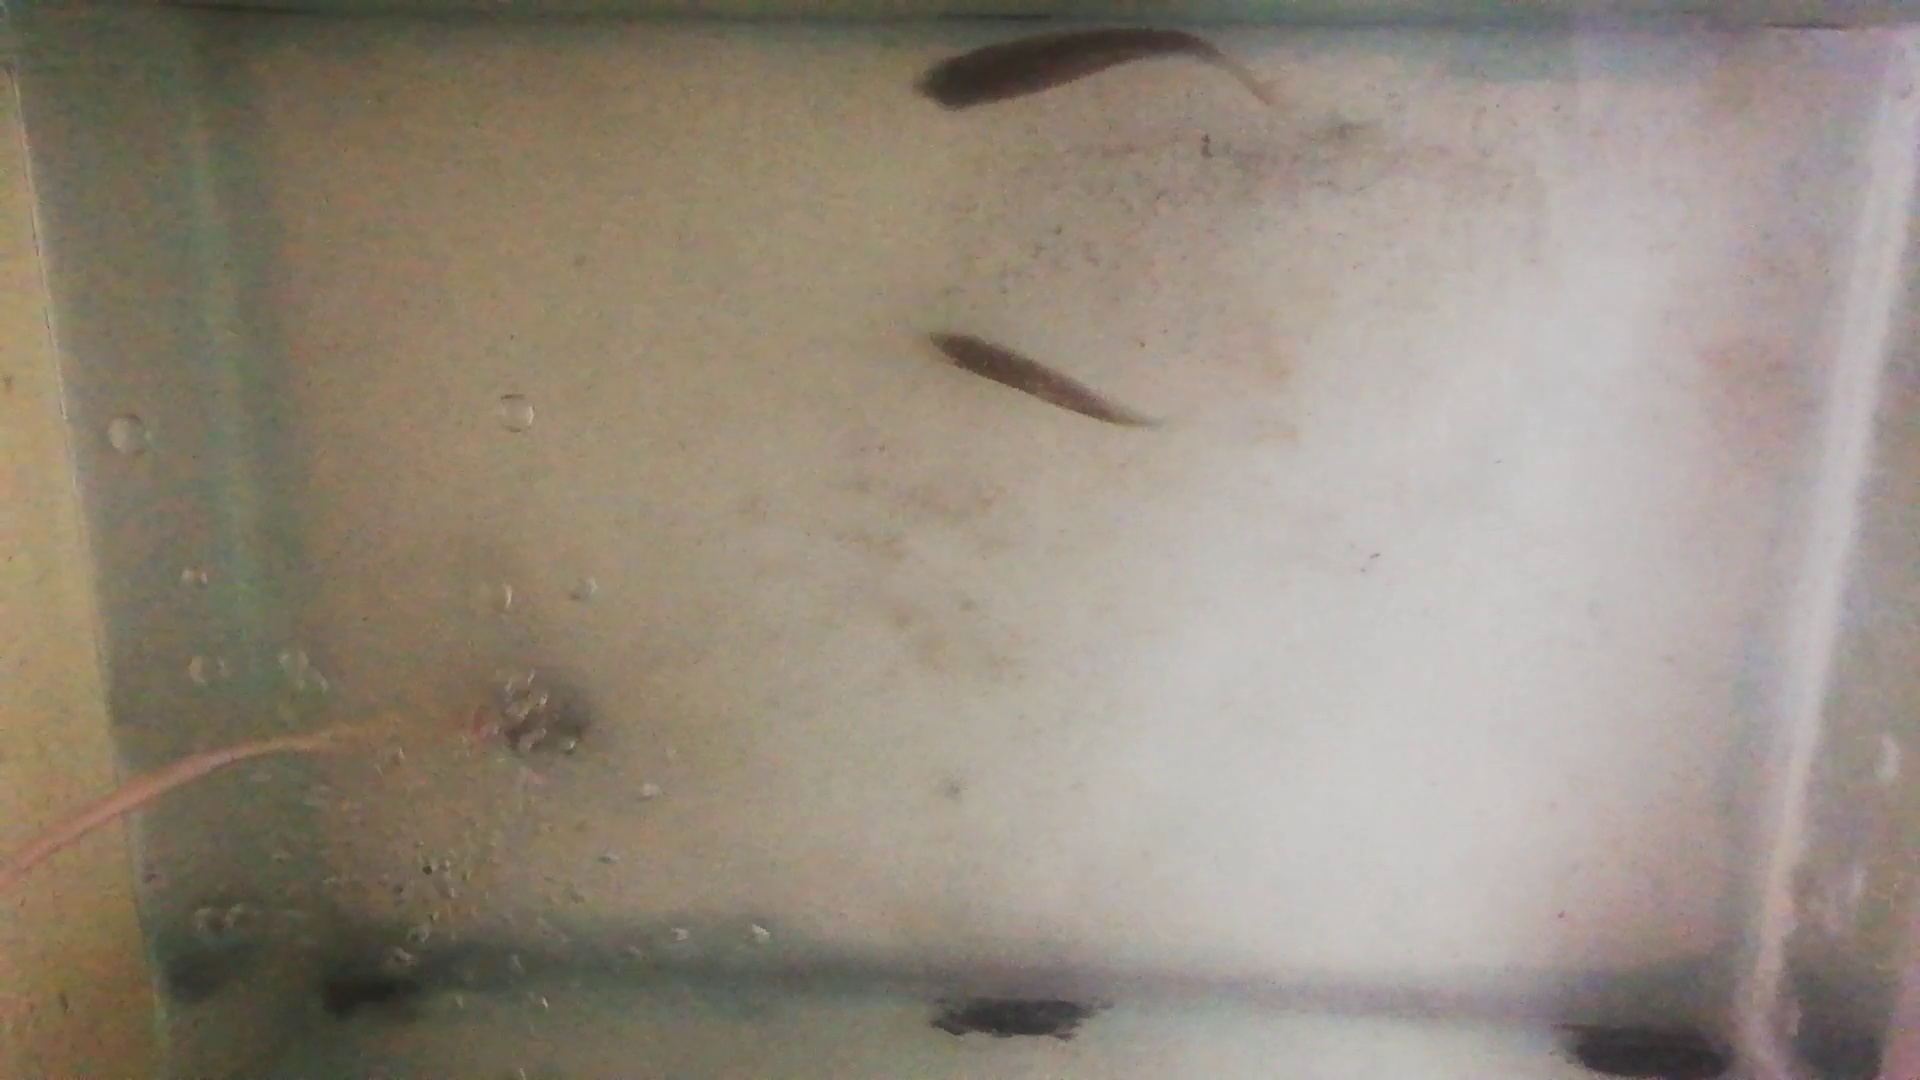fish: (915, 26, 1217, 112), (928, 328, 1134, 429)
